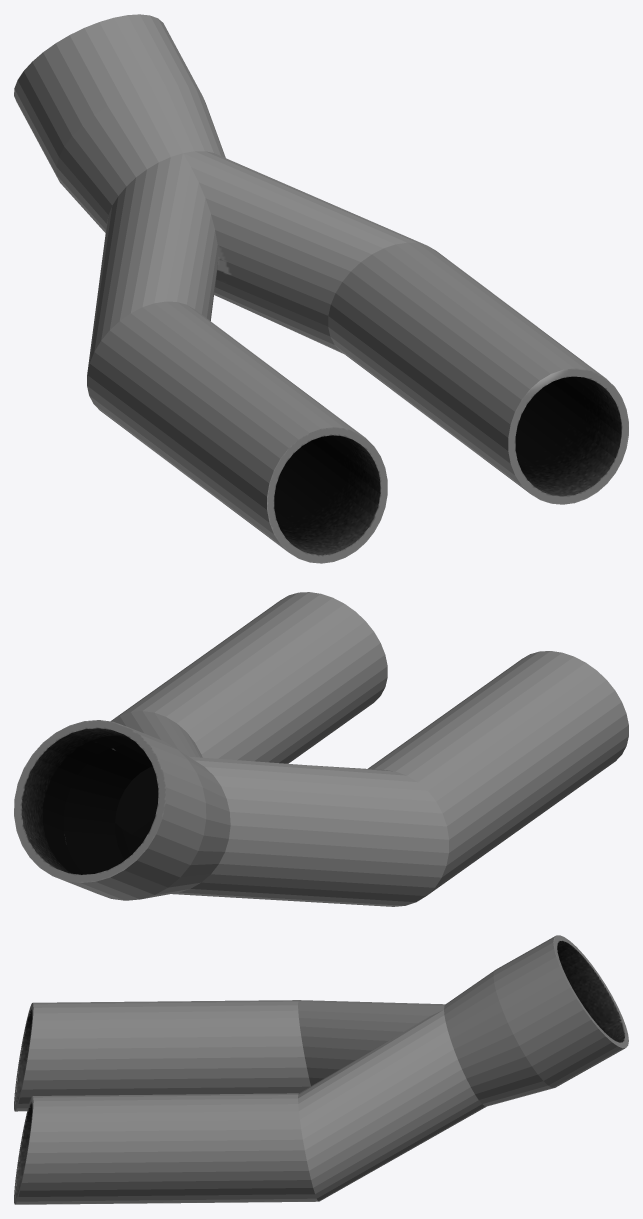
The model's file is OldExhaustPipe.fbx.
The picture shows the model from 3 angles, top to bottom: view 1: azimuth 30°, elevation 25°; view 2: azimuth 150°, elevation 25°; view 3: azimuth 270°, elevation 25°; orthographic projection. The views are drawn at different scales.
Visible parts, largest first — view 1: Cylinder; view 2: Cylinder; view 3: Cylinder.
Part boxes in pixels (box(x1,y1,x2,y2)): Cylinder: box(14, 14, 628, 563); Cylinder: box(14, 592, 628, 906); Cylinder: box(14, 935, 628, 1204).
Size of the model in its own units: 250 by 175 by 464.
1 material, 1 textured.
